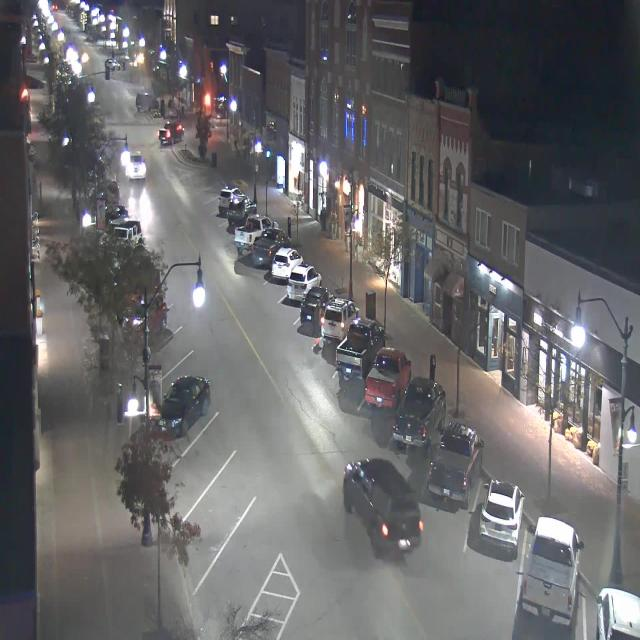available: (228, 489, 298, 587), (205, 449, 263, 537), (186, 404, 243, 479), (162, 320, 201, 368)
occupied: (519, 514, 584, 626), (428, 420, 483, 509), (392, 375, 446, 450), (478, 477, 524, 554), (157, 374, 211, 439), (334, 316, 386, 382), (364, 346, 412, 413), (595, 586, 640, 639), (233, 209, 274, 255), (320, 296, 359, 342), (286, 263, 322, 302), (251, 227, 286, 267), (300, 285, 334, 324), (271, 245, 303, 281), (228, 194, 256, 226), (218, 186, 242, 214)
